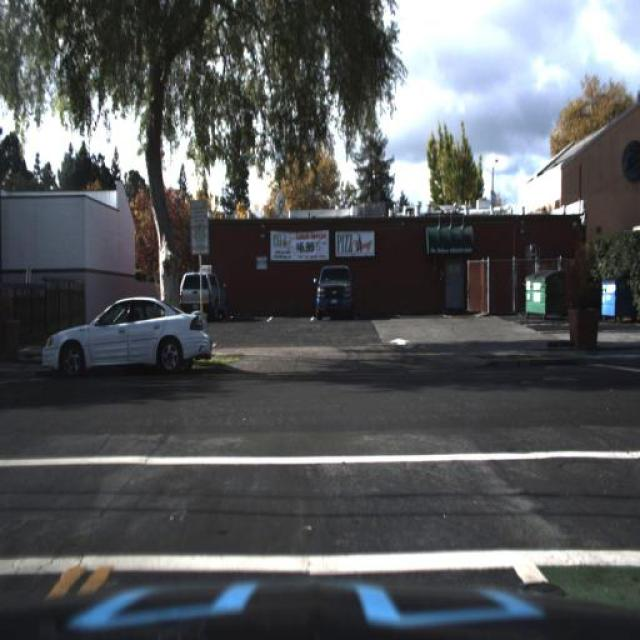car: (39, 286, 222, 396), (311, 259, 357, 322), (174, 266, 223, 316)
